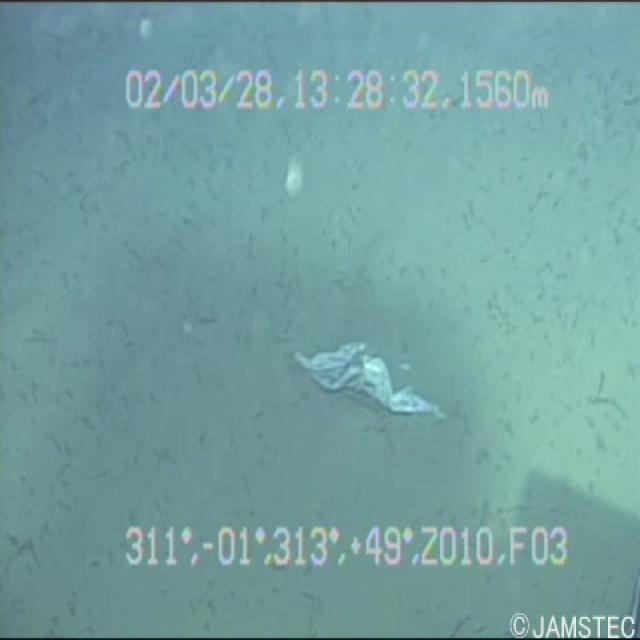plastic: (274, 290, 462, 442)
